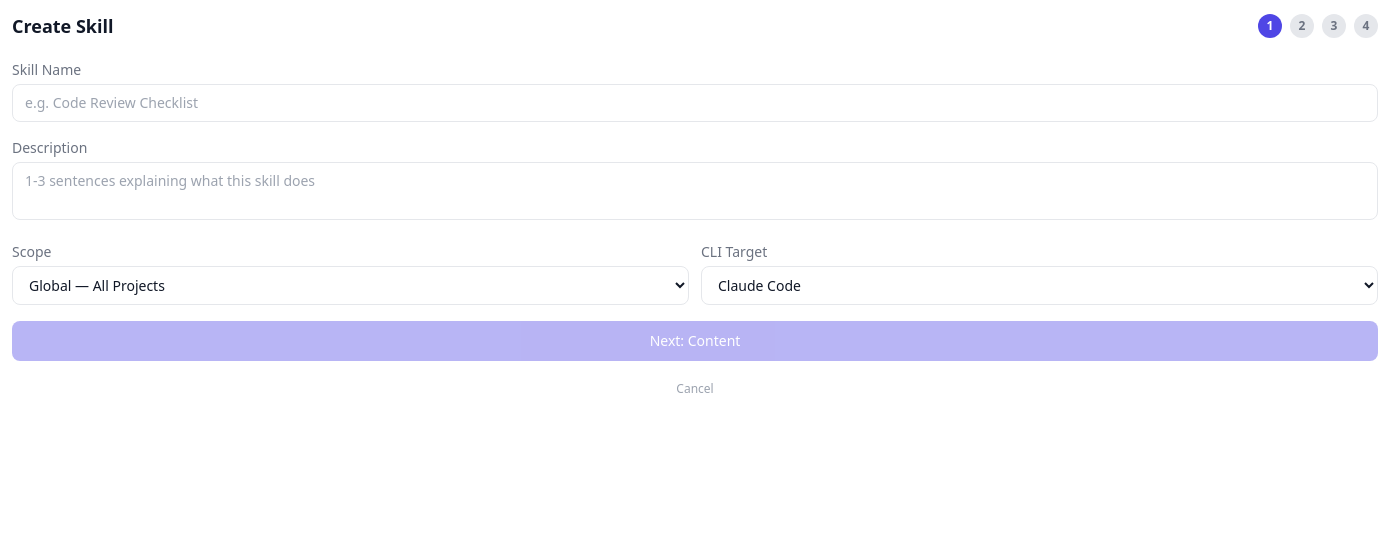
it: SkillWizard › advances to Step 2 on Next click
The width and height of the screenshot is (1390, 549).
Type "Test Skill" into the field with placeholder "e.g. Code Review Checklist".
click(695, 103); type("Test Skill")  # box [12, 84, 1378, 122]
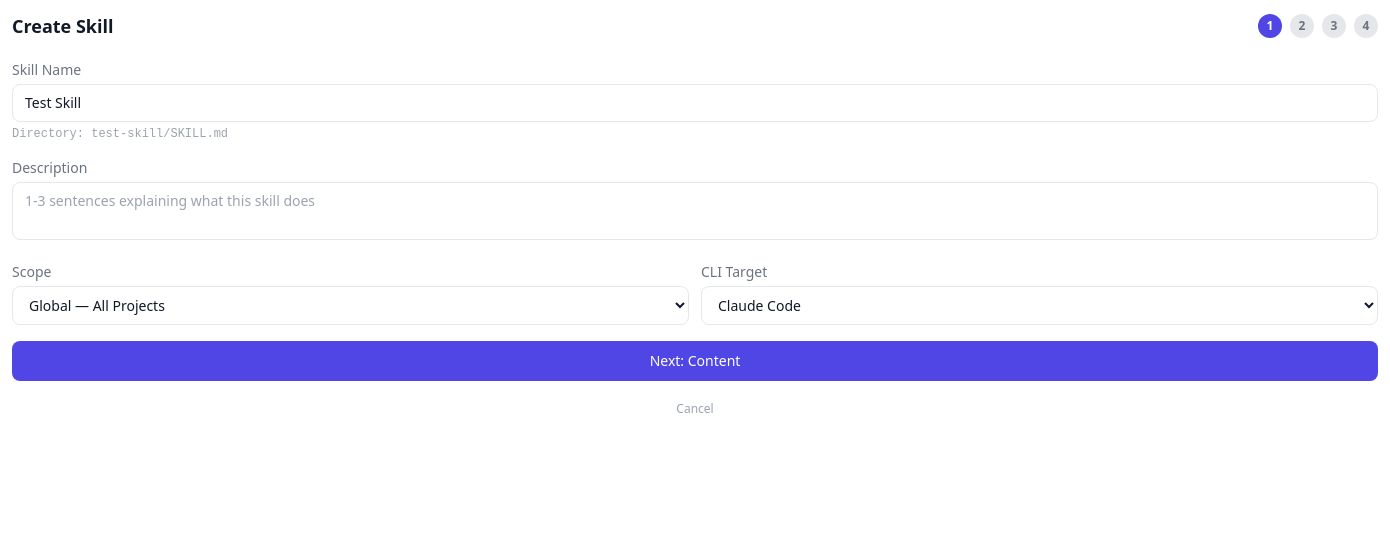
Click the button "Next: Content".
click(695, 361)  # box [12, 341, 1378, 381]
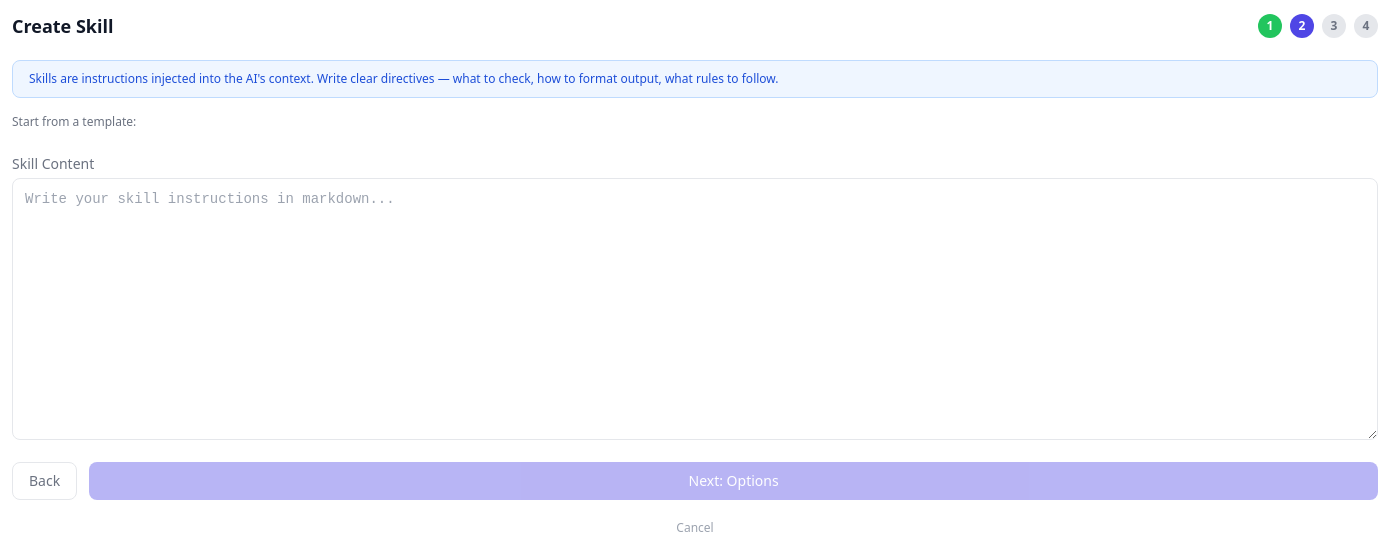
Expected: the text "Skill Content" is shown, [12, 154, 94, 173]
Expected: the text box with placeholder "Write your skill instructions in markdown..." is shown, [12, 178, 1378, 440]
